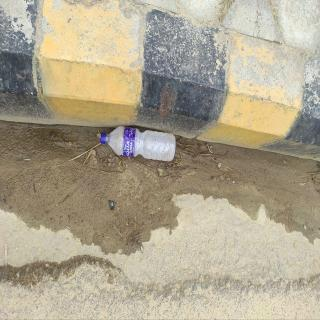Plastic-bottle: (100, 125, 178, 164)
